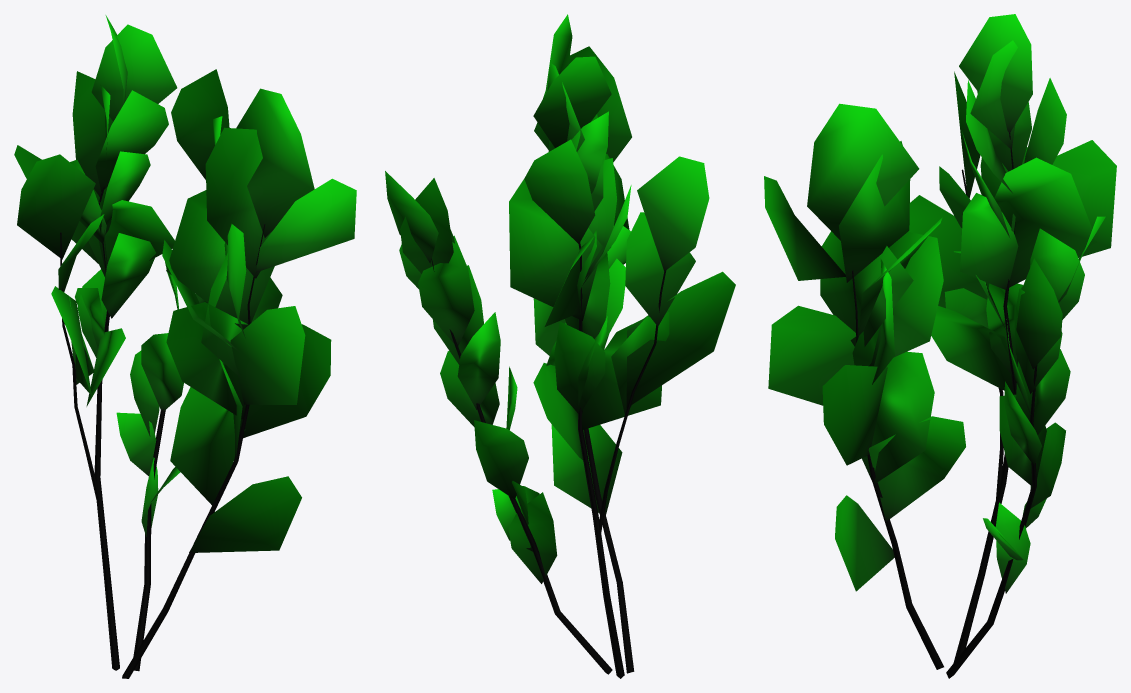
Rendered from Oak_Small_4_LOD_1.fbx.
3 renders of one model, left to right at view 1: azimuth 30°, elevation 25°; view 2: azimuth 150°, elevation 25°; view 3: azimuth 270°, elevation 25°, orthographic. The views are drawn at different scales.
Visible parts, largest first — view 1: Oak_Small_4_LOD_1; view 2: Oak_Small_4_LOD_1; view 3: Oak_Small_4_LOD_1.
Boxes of the visible parts, x1=… form: Oak_Small_4_LOD_1: x1=14, y1=15, x2=356, y2=678; Oak_Small_4_LOD_1: x1=385, y1=14, x2=735, y2=678; Oak_Small_4_LOD_1: x1=764, y1=14, x2=1116, y2=678.
Bounding box in the file's own units: 5.17 × 11.91 × 5.74.
